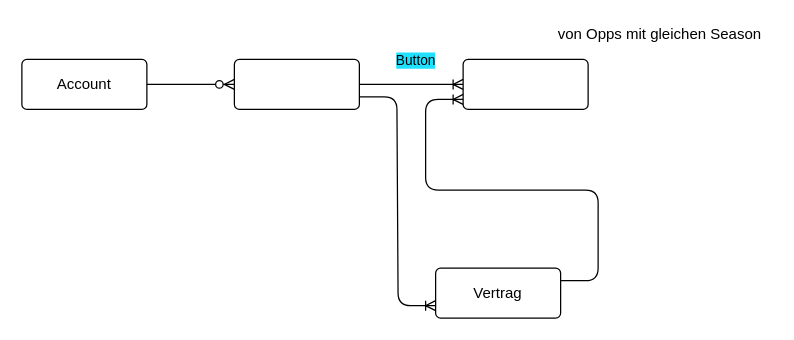
Image size: 794x340. Some labels were removed from this diagram. Each missing label, with the centre of its shape:
"Auftrag" goes at point (525, 83).
"Oppo" goes at point (296, 83).
